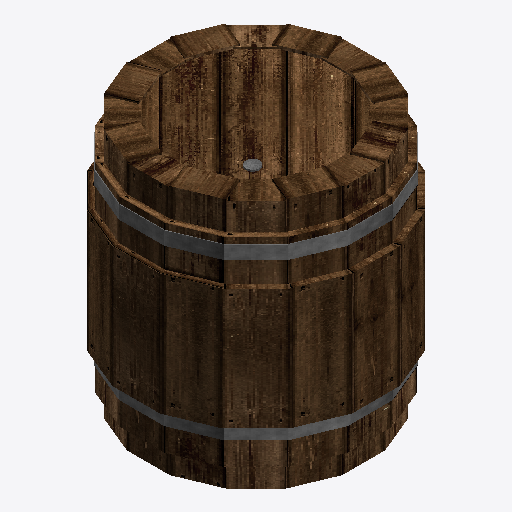
Isometric view (azimuth 45°, elevation 35.3°) of a Minecraft model made of 94 cuboids, textured from the same repository.
Visible parts, largest first — element 52, element 41, element 48, element 42, element 47, element 43, element 8, element 11, element 10, element 25, element 46, element 36 (+28 smaller).
Boxes of the visible parts, box(x1,y1,x2,y2) form: element 52: box(159, 49, 352, 178); element 41: box(222, 283, 289, 427); element 48: box(160, 270, 223, 427); element 42: box(287, 269, 351, 427); element 47: box(112, 243, 164, 412); element 43: box(347, 243, 399, 412); element 8: box(170, 166, 239, 487); element 11: box(272, 166, 341, 487); element 10: box(226, 179, 285, 488); element 25: box(224, 232, 287, 466); element 46: box(87, 208, 119, 384); element 36: box(392, 208, 424, 384).
Bounding box in the file's own units: 17.8 × 18.6 × 17.8.